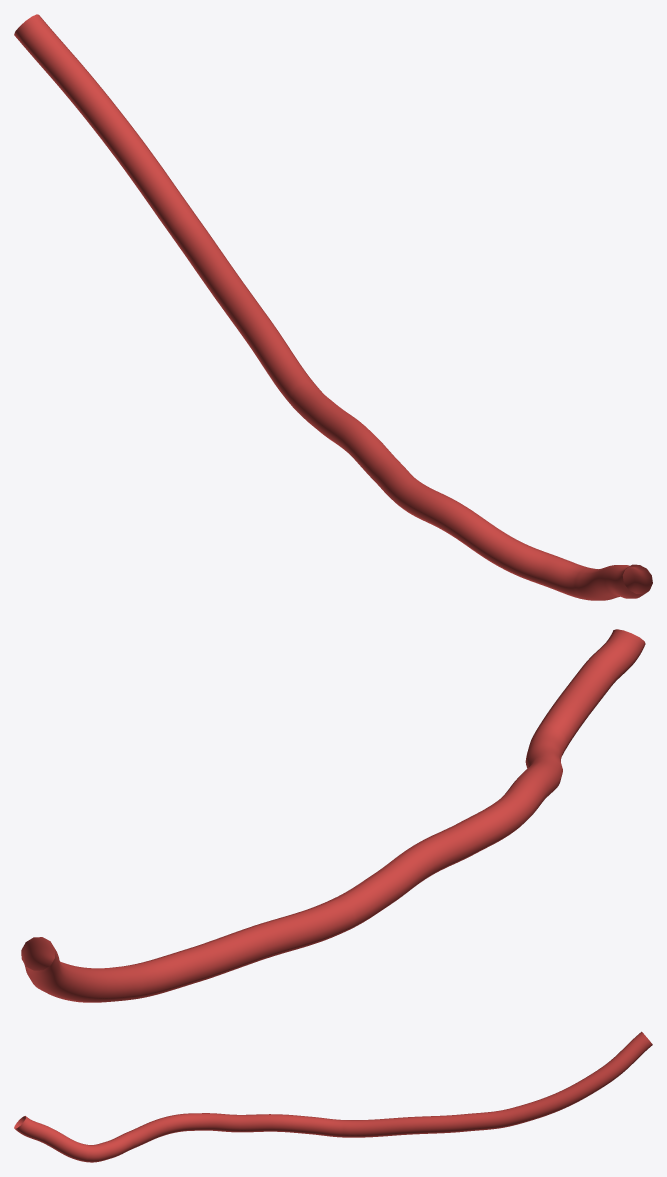
The picture shows the model from 3 angles, top to bottom: view 1: azimuth 30°, elevation 25°; view 2: azimuth 150°, elevation 25°; view 3: azimuth 270°, elevation 25°; orthographic projection. The views are drawn at different scales.
Parts seen in each view (by area): view 1: 右侧股动脉; view 2: 右侧股动脉; view 3: 右侧股动脉.
Boxes of the visible parts, x1,y1,x2,y2 form: 右侧股动脉: (14,14,652,600); 右侧股动脉: (21,629,645,1002); 右侧股动脉: (14,1031,652,1162).
Size of the model in its own units: 0.0472 by 0.1026 by 0.4986.
